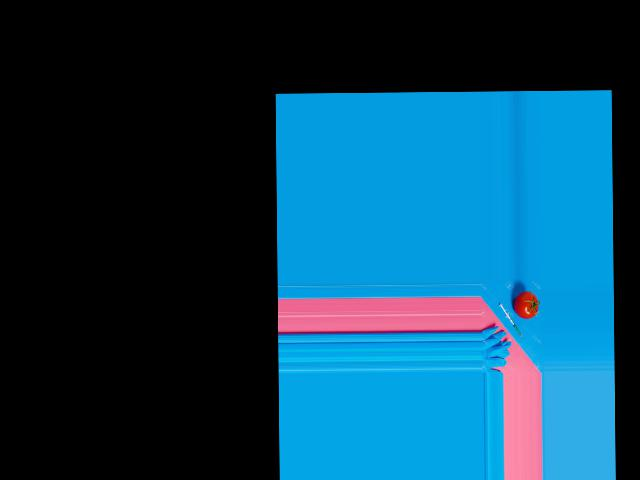tomato: (513, 292, 538, 319)
